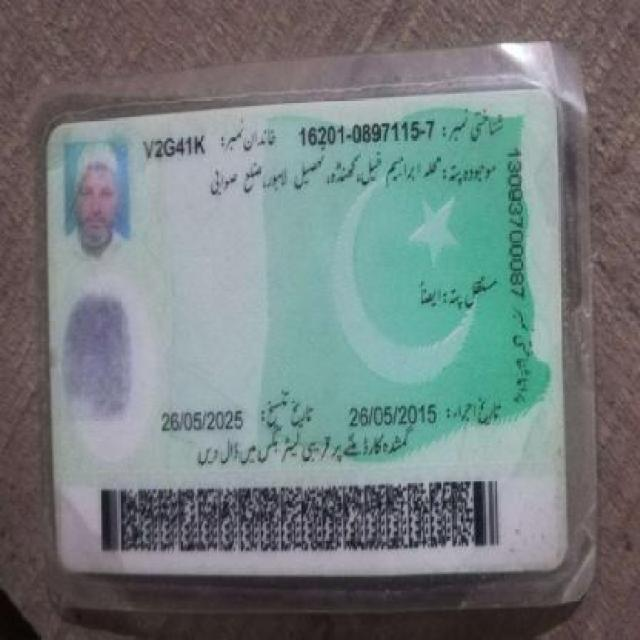Back: (29, 98, 574, 590)
